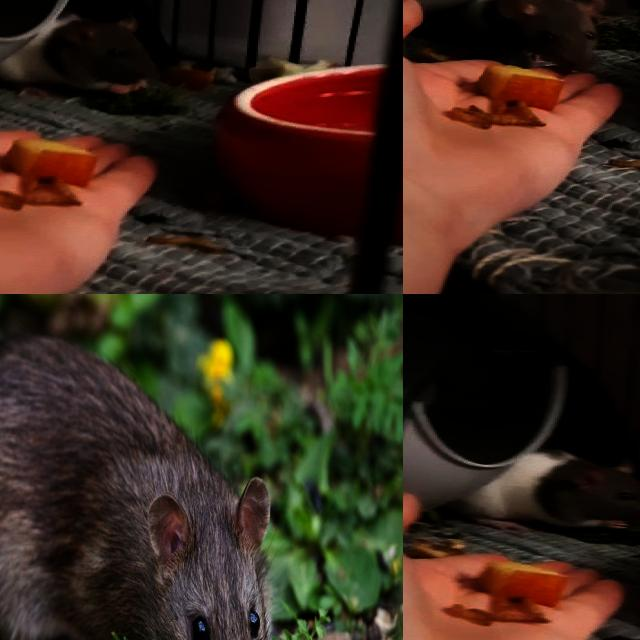rat: (0, 343, 274, 640), (456, 446, 640, 537), (0, 9, 152, 97), (458, 0, 605, 70), (504, 0, 629, 22)
